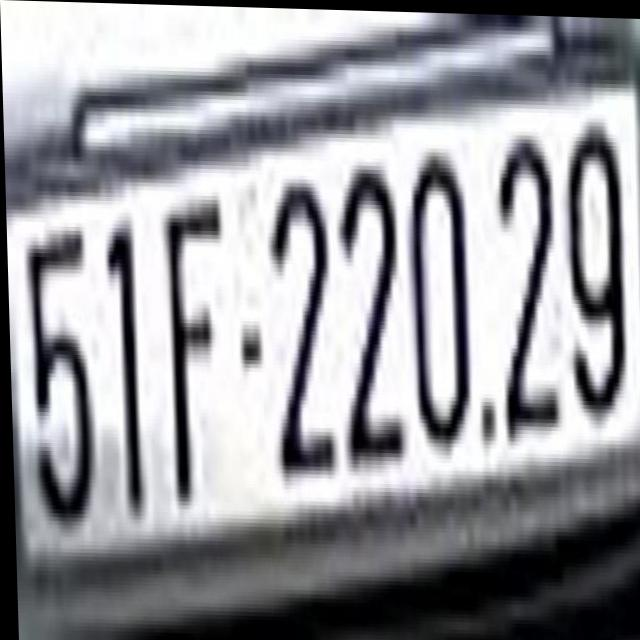0: (406, 153, 471, 453)
1: (108, 235, 154, 523)
2: (339, 163, 404, 467), (497, 123, 559, 432), (270, 177, 334, 473)
5: (25, 217, 101, 537)
9: (562, 103, 628, 418)
F: (163, 178, 227, 528)
